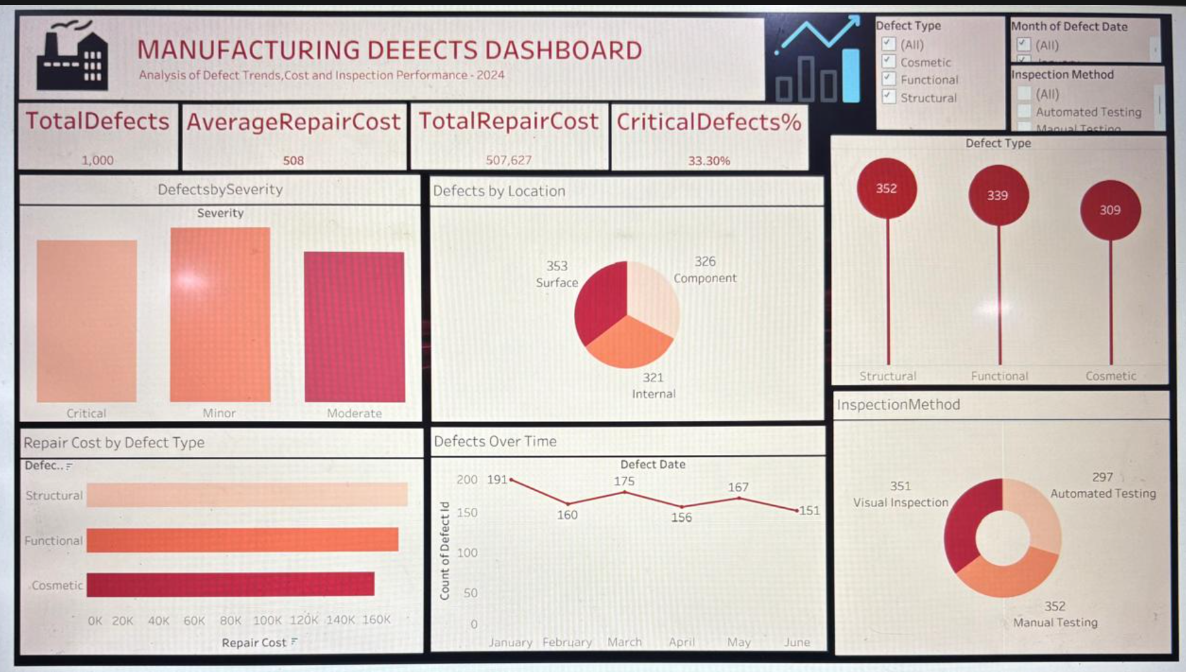

This screenshot's page, from the dashboard's own definition file:
{"tool":"tableau","page":{"name":"Dashboard 1","canvas":[1800,1100],"ordinal":0},"visuals":[{"type":"image","param":"C:/Users/hp/Downloads/black-and-red-background-2jsfazenfvvp0ogf.jpg","box":[8,8,1784,1084]},{"type":"text","box":[192.7,13.2,983.6,140.8]},{"type":"image","param":"C:/Users/hp/Downloads/download.png","box":[1152,14.3,172.6,137.5]},{"type":"filter","title":"Sheet 11","param":"[federated.13bigur0jkyffs1djo8zb08ck4x9].[none:defect_type:nk]","box":[1327.8,18.7,199.1,173.8]},{"type":"filter","title":"Sheet 11","param":"[federated.13bigur0jkyffs1djo8zb08ck4x9].[mn:defect_date:ok]","box":[1536,19.6,233.1,69.1]},{"type":"image","param":"C:/Users/hp/Downloads/icons8-manufacturing-50.png","box":[42.4,24.2,128.1,117.7]},{"type":"filter","title":"Sheet 11","param":"[federated.13bigur0jkyffs1djo8zb08ck4x9].[none:inspection_method:nk]","box":[1536,95.1,238.3,99.8]},{"type":"worksheet","title":"TotalDefects","mark":"Automatic","box":[19,155,529,263]},{"type":"worksheet","title":"TotalRepairCost","mark":"Automatic","box":[615,155,529,263]},{"type":"worksheet","title":"AverageRepairCost","mark":"Automatic","box":[267,156,529,263]},{"type":"worksheet","title":"CriticalDefects%","mark":"Automatic","box":[921,156,529,263]},{"type":"worksheet","title":"Defectsby Type","mark":"Automatic","rows":["defect_id","defect_id"],"cols":["defect_type"],"box":[1257,203,518,381]},{"type":"worksheet","title":"DefectsbySeverity","mark":"Bar","rows":["defect_id"],"cols":["severity"],"box":[21,265,608,373]},{"type":"worksheet","title":"Defects by Location","mark":"Pie","box":[644,267,601,371]},{"type":"worksheet","title":"Sheet 11","mark":"Automatic","box":[697.8,332.2,560.1,289.3]},{"type":"worksheet","title":"InspectionMethod","mark":"Pie","cols":["Calculation_1748829296975877","Calculation_1748829297004551"],"box":[1260,594,516,448]},{"type":"worksheet","title":"Defects Over Time","mark":"Automatic","rows":["defect_id"],"cols":["defect_date"],"box":[643,647,604,344]},{"type":"worksheet","title":"Repair Cost by Defect Type","mark":"Automatic","rows":["defect_type"],"cols":["repair_cost"],"box":[22,649,609,356]}]}

Visuals, with their boxes on the page's 1800x1100 design canvas (x1, y1, x2, y2). These are canvas units, not pixel positions in the 1186x672 screenshot, which may show the page scaled, cropped or inside an application window:
image: bbox=(8, 8, 1792, 1092)
text: bbox=(193, 13, 1176, 154)
image: bbox=(1152, 14, 1325, 152)
"Sheet 11" filter: bbox=(1328, 19, 1527, 192)
"Sheet 11" filter: bbox=(1536, 20, 1769, 89)
image: bbox=(42, 24, 170, 142)
"Sheet 11" filter: bbox=(1536, 95, 1774, 195)
"TotalDefects" worksheet: bbox=(19, 155, 548, 418)
"TotalRepairCost" worksheet: bbox=(615, 155, 1144, 418)
"AverageRepairCost" worksheet: bbox=(267, 156, 796, 419)
"CriticalDefects%" worksheet: bbox=(921, 156, 1450, 419)
"Defectsby Type" worksheet: bbox=(1257, 203, 1775, 584)
"DefectsbySeverity" worksheet (Bar marks): bbox=(21, 265, 629, 638)
"Defects by Location" worksheet (Pie marks): bbox=(644, 267, 1245, 638)
"Sheet 11" worksheet: bbox=(698, 332, 1258, 622)
"InspectionMethod" worksheet (Pie marks): bbox=(1260, 594, 1776, 1042)
"Defects Over Time" worksheet: bbox=(643, 647, 1247, 991)
"Repair Cost by Defect Type" worksheet: bbox=(22, 649, 631, 1005)
